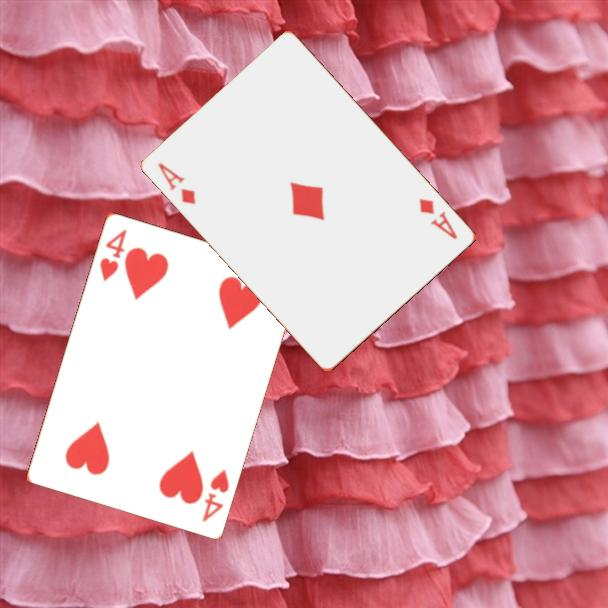d01: (416, 195, 461, 242), (155, 159, 199, 207)
h04: (198, 465, 232, 524), (96, 225, 129, 284)
